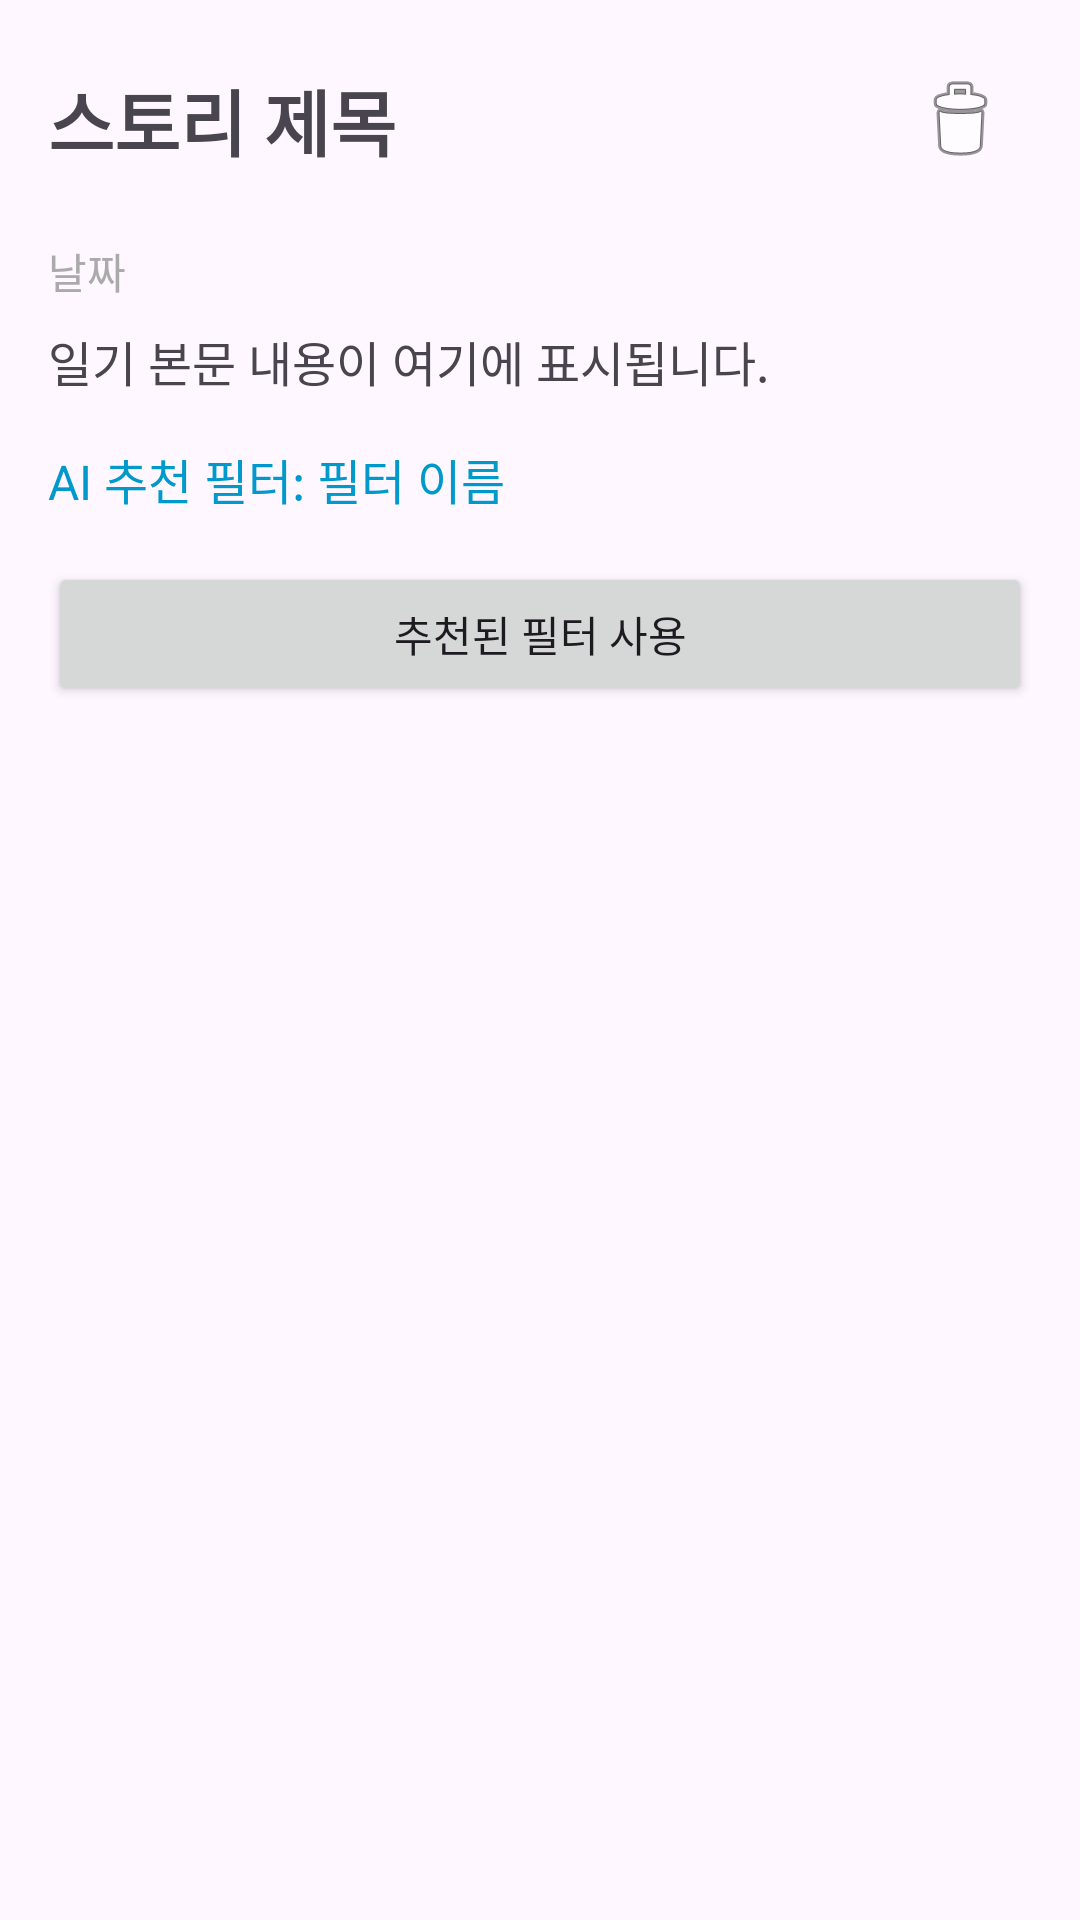

Where to tap for icons on this 1080px×1920px app screen, as (x,y):
스토리 삭제: (960,118)
